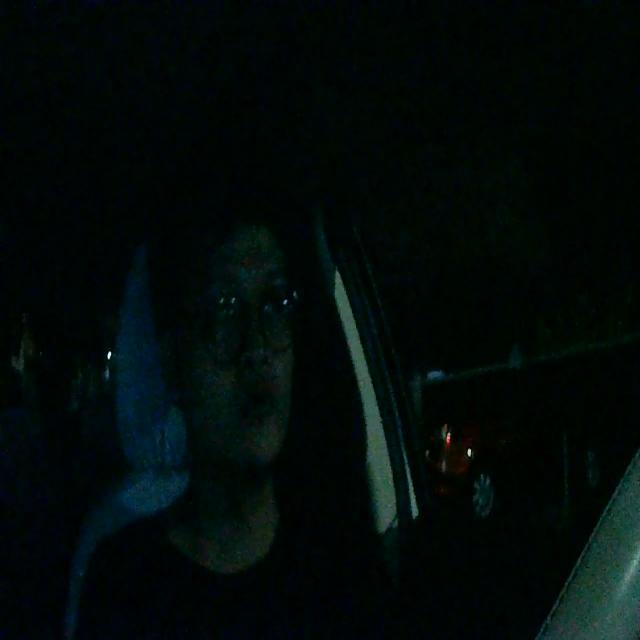Attentive: (163, 174, 310, 470)
Eye-Open: (210, 288, 242, 326), (258, 288, 288, 327)
Normal: (238, 380, 282, 425)
